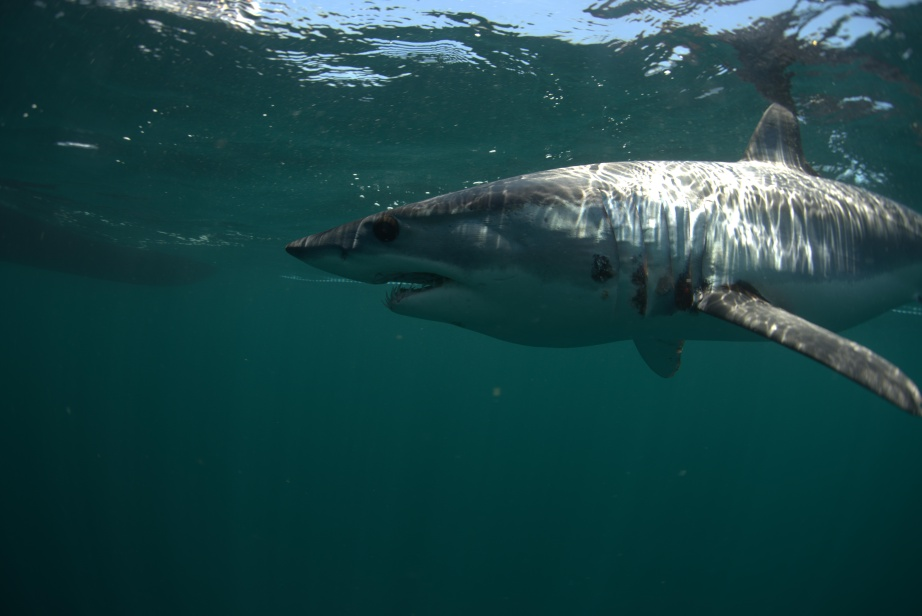Mako: (281, 97, 922, 417)
